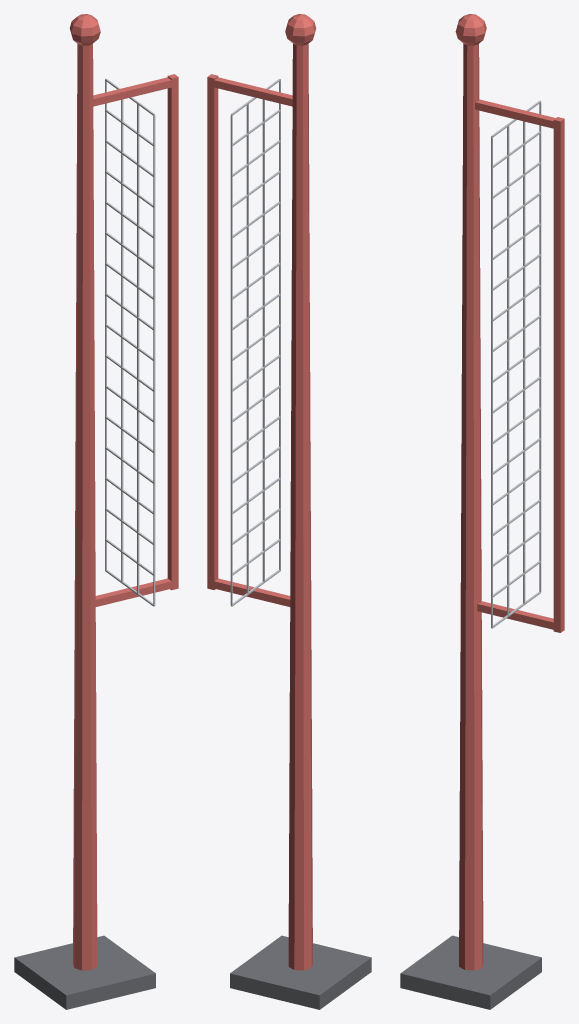
The model's file is baseball-park-and-batting-cages-foul-pole-fb5a4afd__33751.glb.
3 views of the same model, side by side, from view 1: azimuth 30°, elevation 25°; view 2: azimuth 150°, elevation 25°; view 3: azimuth 330°, elevation 25° (orthographic).
Parts seen in each view (by area): view 1: foul-pole; view 2: foul-pole; view 3: foul-pole.
Part boxes in pixels (x1=…): foul-pole: x1=14, y1=14, x2=178, y2=1009; foul-pole: x1=207, y1=14, x2=371, y2=1009; foul-pole: x1=400, y1=14, x2=564, y2=1009.
Bounding box in the file's own units: 1.37 × 9.24 × 0.9.
